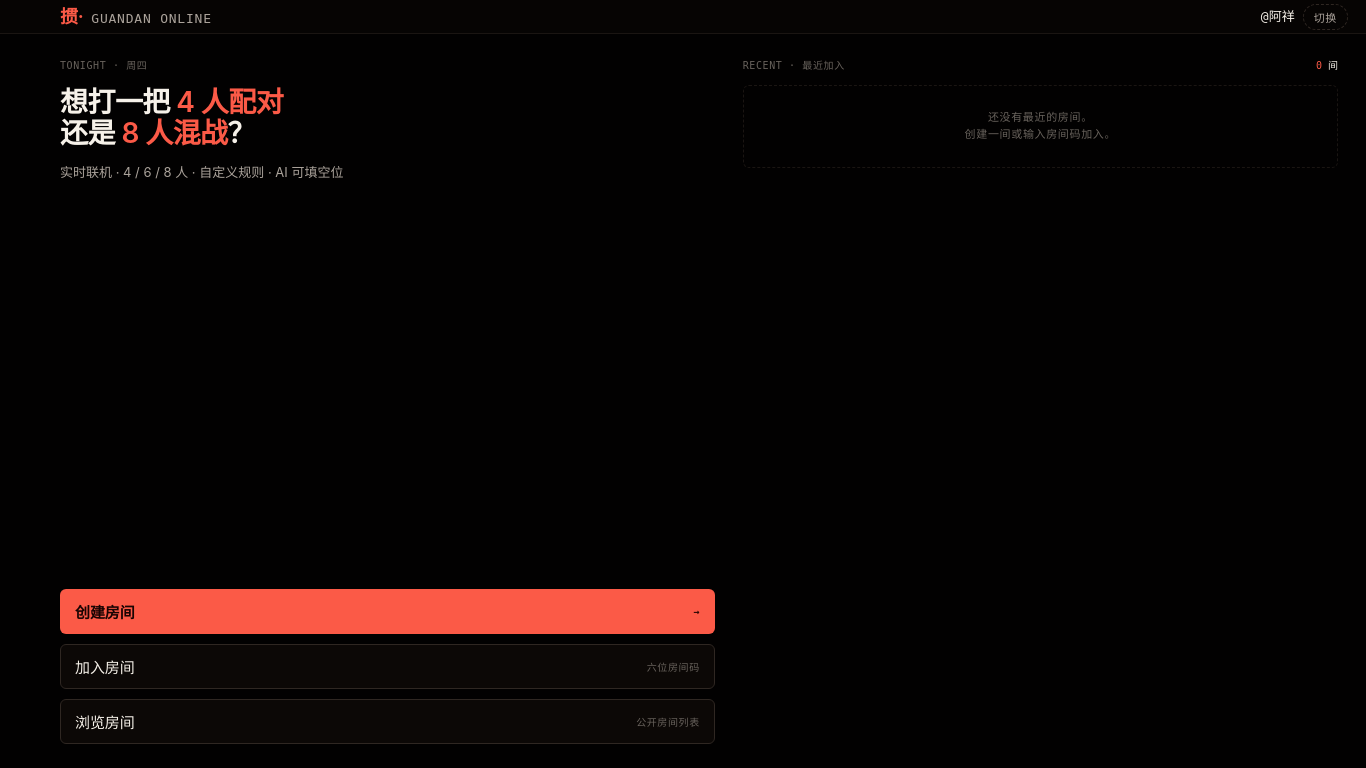
Landing — browse public rooms (ROOM-3) › opens the browse modal and lists public rooms
Click the button "浏览房间 公开房间列表": point(105, 722) [60,699,715,744]
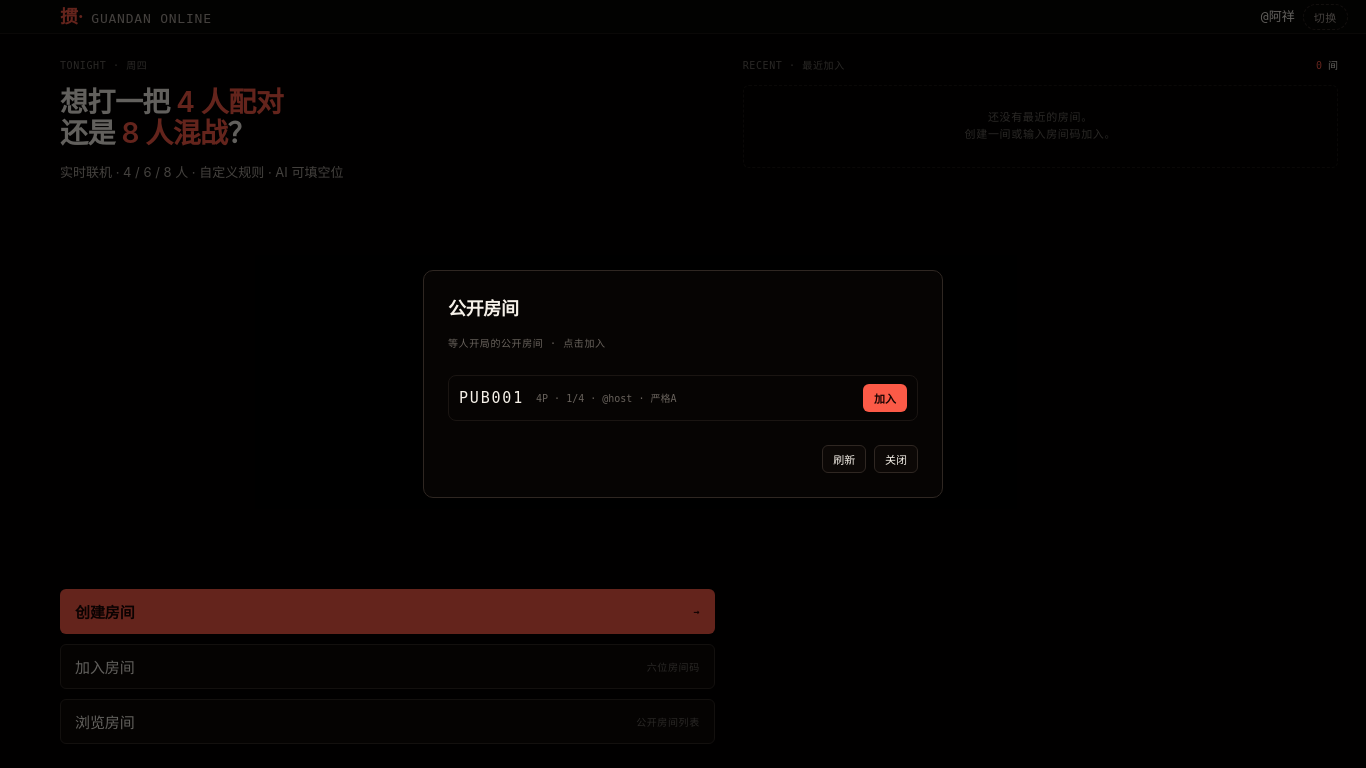
Result: the text "PUB001" is shown at [459,387,524,409]
Result: the text "4P · 1/4 · @host · 严格A" is shown at [536,392,676,404]
